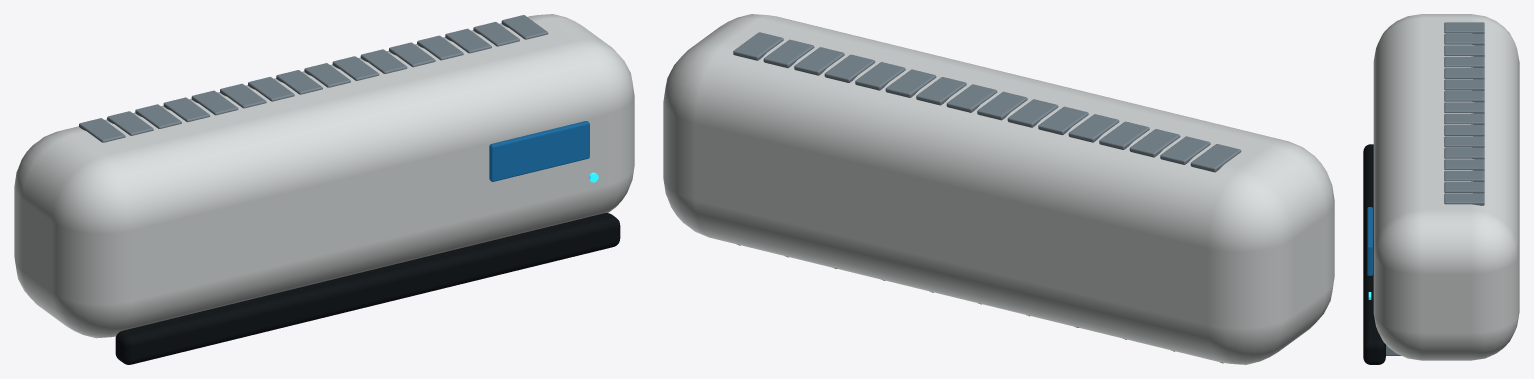
The model's file is air-conditioner.glb.
3 views of the same model, side by side, from view 1: azimuth 30°, elevation 25°; view 2: azimuth 150°, elevation 25°; view 3: azimuth 270°, elevation 25° (orthographic). The views are drawn at different scales.
Visible parts, largest first — view 1: Split AC indoor unit, Air outlet, Intake grille (×16), Temperature display; view 2: Split AC indoor unit, Intake grille (×16); view 3: Split AC indoor unit, Intake grille (×16), Air outlet, Temperature display.
Part boxes in pixels (left/top/right/bottom): Split AC indoor unit: left=14, top=14, right=634, bottom=338; Air outlet: left=115, top=213, right=620, bottom=364; Intake grille (×16): left=79, top=15, right=548, bottom=142; Temperature display: left=489, top=121, right=589, bottom=181; Split AC indoor unit: left=663, top=14, right=1334, bottom=364; Intake grille (×16): left=733, top=32, right=1241, bottom=172; Split AC indoor unit: left=1373, top=14, right=1519, bottom=360; Intake grille (×16): left=1444, top=22, right=1484, bottom=205; Air outlet: left=1363, top=144, right=1385, bottom=364; Temperature display: left=1367, top=207, right=1372, bottom=275.
Bounding box in the file's own units: 2.45 × 0.759 × 0.695.
